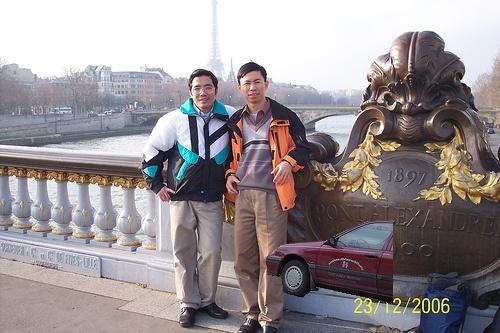tampered: (267, 221, 393, 303)
